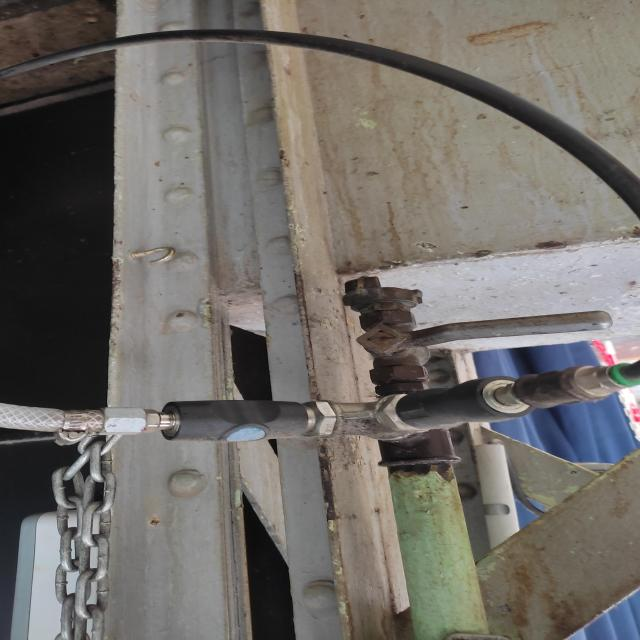closed_valve: (352, 307, 616, 377)
